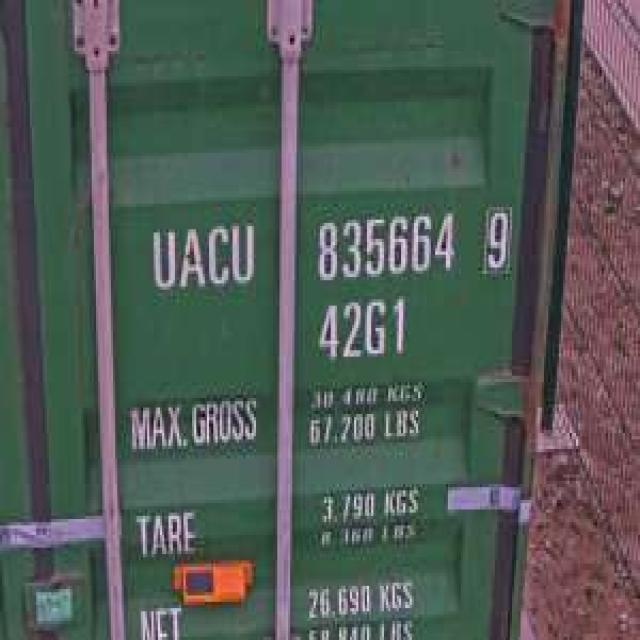dv: (478, 194, 514, 280)
owner: (143, 210, 260, 296)
serial: (309, 204, 459, 286)
size: (309, 290, 410, 369)
